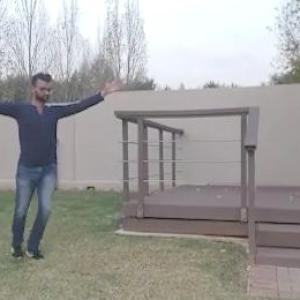takeoff: (0, 72, 133, 256)
